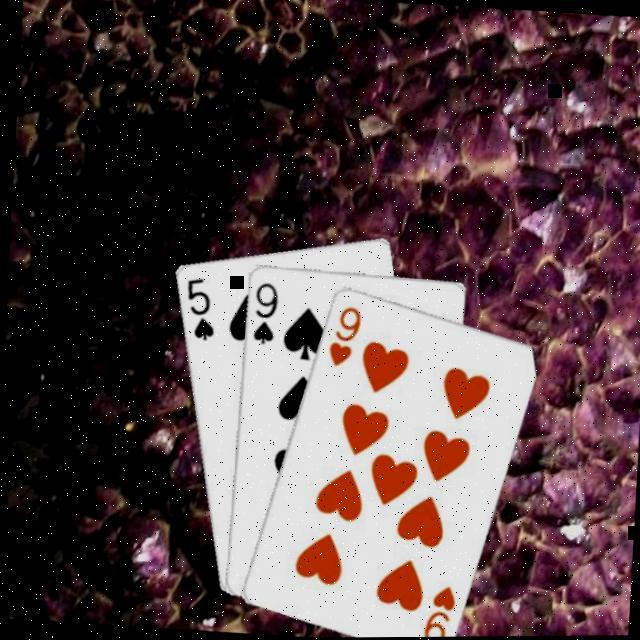5S: (179, 272, 221, 343)
9H: (322, 300, 366, 369), (417, 579, 458, 637)
9S: (248, 277, 282, 347)
